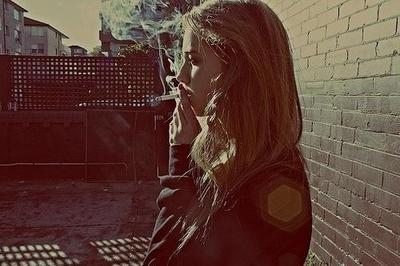smoke: (155, 92, 182, 102)
